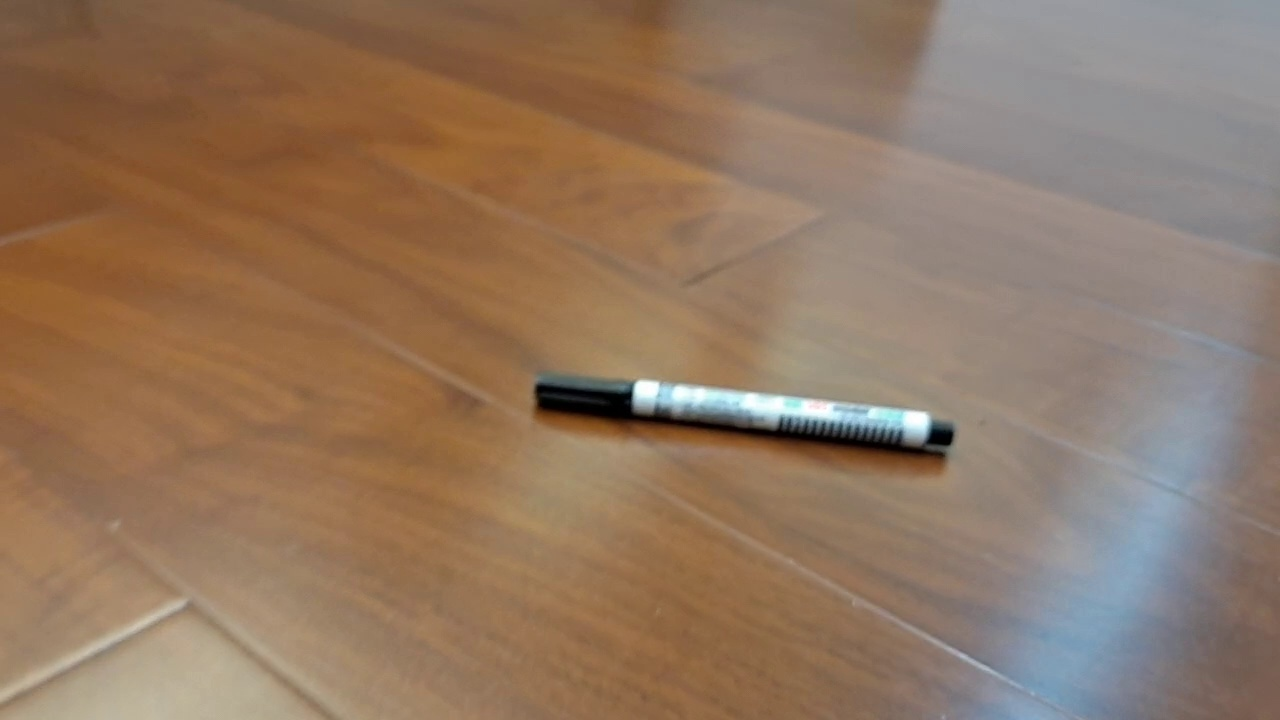pen: (533, 369, 954, 451)
